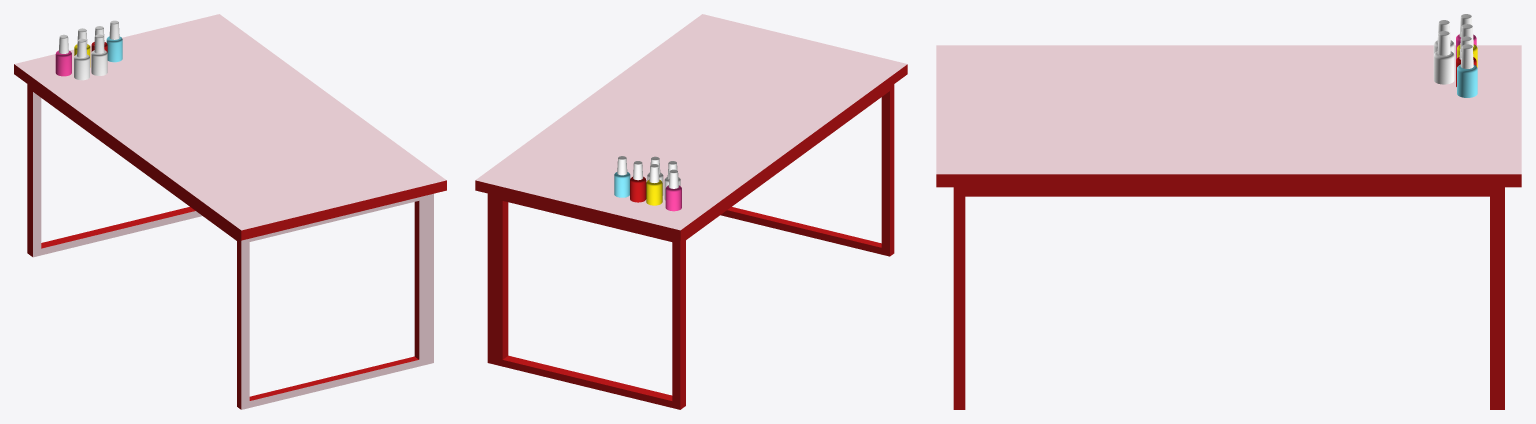
The model's file is k_masa.obj.
3 views of the same model, side by side, from view 1: azimuth 30°, elevation 25°; view 2: azimuth 150°, elevation 25°; view 3: azimuth 270°, elevation 25° (orthographic). The views are drawn at different scales.
Visible parts, largest first — view 1: Plane.019_m_softred, Cube.161_m_softred, Cube.161_m_red, Plane.019_m_red, red.001_m_beyaz, yellow.003_oje_pembe; view 2: Plane.019_m_softred, Cube.161_m_red, Plane.019_m_red, yellow.004_oje_sarı, yellow.003_oje_pembe, yellow.001_m_red; view 3: Plane.019_m_softred, Cube.161_m_red, Plane.019_m_red, red.001_m_beyaz, yellow.002_oje_mavi.
Part boxes in pixels (<box>): Plane.019_m_softred: <box>14,14,446,230</box>; Cube.161_m_softred: <box>33,92,433,409</box>; Cube.161_m_red: <box>27,84,419,409</box>; Plane.019_m_red: <box>14,64,446,240</box>; red.001_m_beyaz: <box>91,34,107,75</box>; yellow.003_oje_pembe: <box>55,50,71,76</box>; Plane.019_m_softred: <box>475,14,907,230</box>; Cube.161_m_red: <box>487,84,894,409</box>; Plane.019_m_red: <box>475,64,907,240</box>; yellow.004_oje_sarı: <box>646,179,662,205</box>; yellow.003_oje_pembe: <box>665,185,681,211</box>; yellow.001_m_red: <box>630,176,646,202</box>; Plane.019_m_softred: <box>936,45,1521,174</box>; Cube.161_m_red: <box>953,187,1504,409</box>; Plane.019_m_red: <box>936,174,1521,187</box>; red.001_m_beyaz: <box>1433,31,1454,84</box>; yellow.002_oje_mavi: <box>1457,64,1477,97</box>.
Size of the model in its own units: 10.55 by 10.99 by 20.22.
